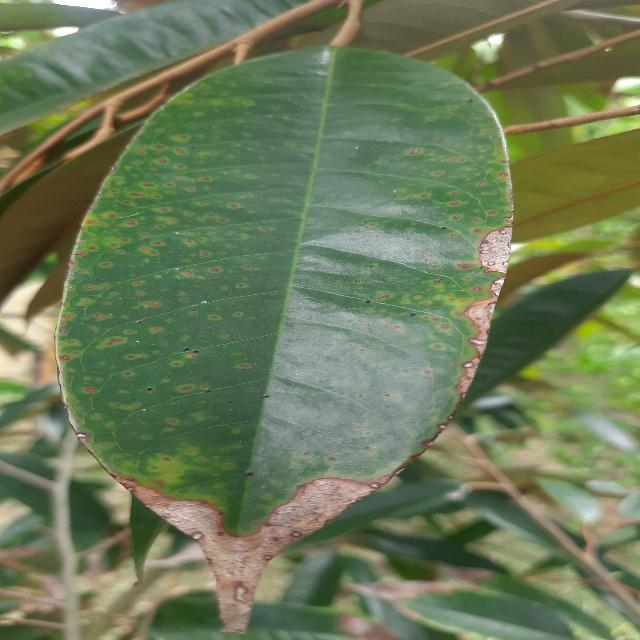Leaf Spot: (51, 37, 523, 639)
